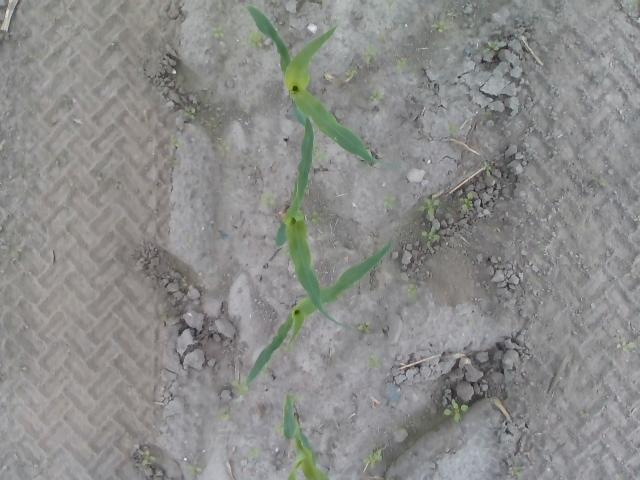Maize: (245, 4, 399, 172), (245, 238, 396, 390), (274, 114, 352, 329), (282, 392, 332, 480)
Weeds: (480, 28, 506, 54), (442, 398, 468, 422), (418, 196, 439, 218), (246, 30, 266, 50), (422, 227, 440, 246), (616, 340, 640, 354), (259, 192, 277, 210), (167, 133, 183, 153), (138, 449, 156, 465), (215, 142, 231, 159), (368, 88, 385, 104), (432, 20, 451, 34), (364, 46, 378, 65), (232, 381, 252, 394), (366, 449, 384, 462), (382, 192, 395, 210), (462, 191, 474, 210), (356, 320, 372, 333), (368, 356, 382, 370), (211, 25, 225, 38), (482, 160, 493, 176), (188, 464, 202, 476), (184, 105, 196, 119), (310, 210, 322, 224), (407, 284, 418, 298), (399, 56, 410, 66), (510, 466, 520, 476), (248, 447, 258, 457), (318, 152, 328, 162), (344, 70, 358, 76), (276, 424, 284, 434), (446, 126, 455, 134)
